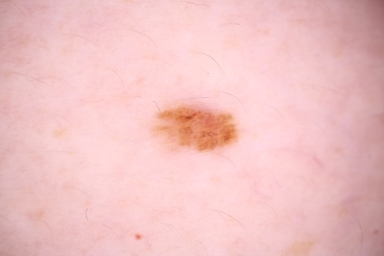melanoma: (153, 105, 237, 151)
